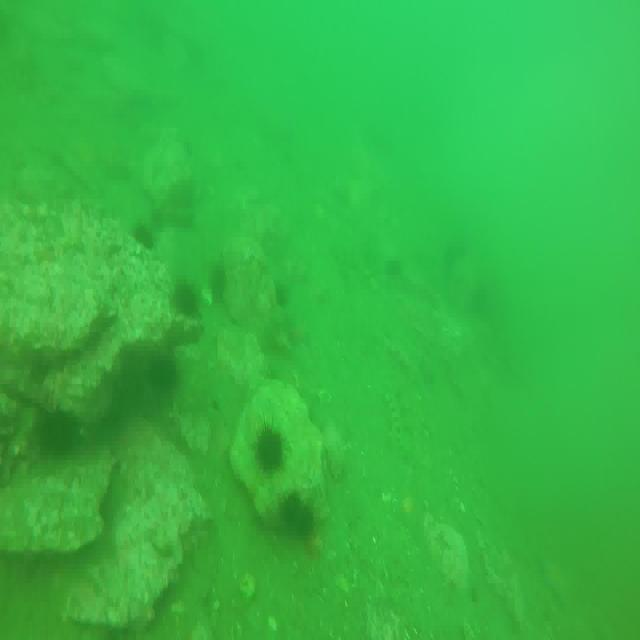echinus: (253, 426, 285, 474), (32, 413, 58, 461), (174, 285, 200, 331), (282, 488, 305, 529), (158, 348, 174, 392), (132, 220, 154, 252), (298, 506, 316, 540), (212, 264, 228, 302)
holothurian: (388, 375, 423, 464)
